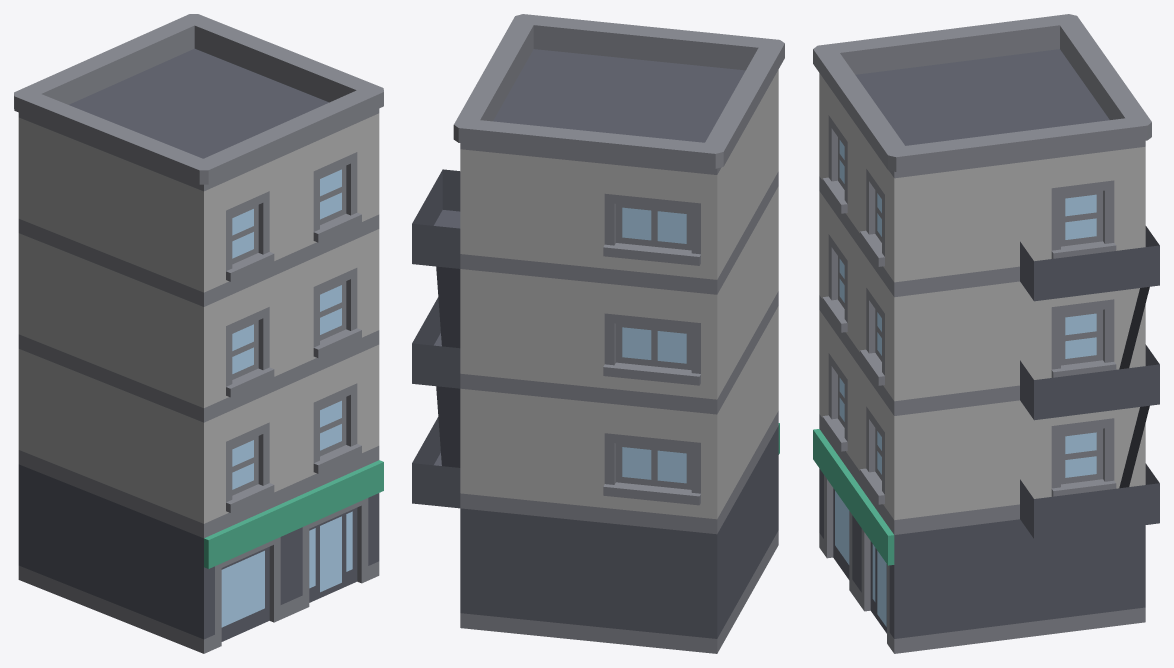
File: large_buildingC.obj
3 views of the same model, side by side, from view 1: azimuth 30°, elevation 25°; view 2: azimuth 150°, elevation 25°; view 3: azimuth 270°, elevation 25° (orthographic). The views are drawn at different scales.
Parts seen in each view (by area): view 1: large_buildingC.001; view 2: large_buildingC.001; view 3: large_buildingC.001.
Part boxes in pixels (x1=…): large_buildingC.001: x1=14, y1=14, x2=383, y2=653; large_buildingC.001: x1=412, y1=14, x2=784, y2=653; large_buildingC.001: x1=813, y1=14, x2=1159, y2=653.
Bounding box in the file's own units: 19.06 × 30.67 × 19.3.
